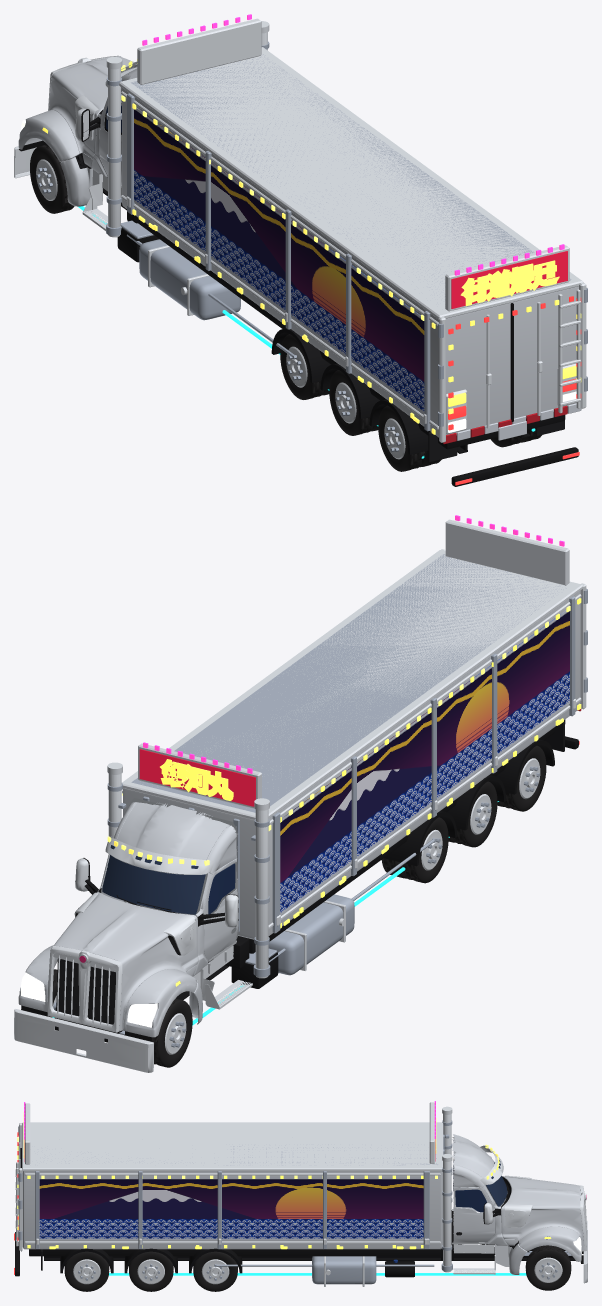
The model's file is dekotora_truck_longo_americana.glb.
3 renders of one model, top to bottom at view 1: azimuth 30°, elevation 25°; view 2: azimuth 150°, elevation 25°; view 3: azimuth 270°, elevation 25°, orthographic. The views are drawn at different scales.
Parts seen in each view (by area): view 1: truck_chrome, truck_mural, truck_paint_white_panel, truck_steel, truck_plastic_black, truck_lamp_amber, wheel_f_L, wheel_r_L_1.5_1.06, wheel_r_L_3.0_1.06, wheel_r_L_4.5_1.06, truck_andon_panel, truck_paint_white (+3 smaller); view 2: truck_chrome, truck_steel, truck_paint_white_panel, truck_mural, truck_plastic_black, truck_glass_wind, truck_lamp_amber, truck_andon_panel, wheel_f_L, wheel_r_L_3.0_1.06, wheel_r_L_1.5_1.06, wheel_r_L_4.5_1.06 (+2 smaller); view 3: truck_chrome, truck_mural, truck_paint_white_panel, truck_plastic_black, truck_steel, wheel_f_R, wheel_r_R_1.5_1.06, wheel_r_R_3.0_1.06, wheel_r_R_4.5_1.06, truck_lamp_amber, truck_lamp_cyan, truck_glass (+2 smaller).
Boxes of the visible parts, box(x1,y1,x2,y2) form: truck_chrome: box(14, 18, 586, 442); truck_mural: box(134, 107, 424, 413); truck_paint_white_panel: box(18, 56, 578, 437); truck_steel: box(73, 41, 587, 431); truck_plastic_black: box(19, 109, 578, 486); truck_lamp_amber: box(42, 61, 581, 434); wheel_f_L: box(30, 144, 74, 213); wheel_r_L_1.5_1.06: box(378, 405, 426, 471); wheel_r_L_3.0_1.06: box(329, 370, 374, 435); wheel_r_L_4.5_1.06: box(280, 334, 325, 399); truck_andon_panel: box(451, 251, 567, 308); truck_paint_white: box(457, 403, 581, 440); truck_chrome: box(14, 519, 586, 1072); truck_steel: box(53, 554, 587, 1034); truck_paint_white_panel: box(18, 591, 580, 1037); truck_mural: box(280, 610, 569, 914); truck_plastic_black: box(21, 719, 578, 1042); truck_glass_wind: box(102, 845, 205, 914); truck_lamp_amber: box(114, 598, 581, 986); truck_andon_panel: box(139, 749, 255, 806); wheel_f_L: box(151, 998, 192, 1067); wheel_r_L_3.0_1.06: box(452, 781, 497, 847); wheel_r_L_1.5_1.06: box(501, 745, 546, 811); wheel_r_L_4.5_1.06: box(401, 817, 448, 883); truck_chrome: box(15, 1102, 587, 1286); truck_mural: box(39, 1177, 423, 1240); truck_paint_white_panel: box(22, 1134, 584, 1274); truck_plastic_black: box(15, 1148, 583, 1277); truck_steel: box(18, 1120, 571, 1284); wheel_f_R: box(525, 1245, 571, 1290); wheel_r_R_1.5_1.06: box(64, 1251, 109, 1291); wheel_r_R_3.0_1.06: box(129, 1251, 173, 1291); wheel_r_R_4.5_1.06: box(193, 1251, 237, 1291); truck_lamp_amber: box(17, 1112, 551, 1249); truck_lamp_cyan: box(109, 1273, 526, 1275); truck_glass: box(453, 1162, 486, 1212).
Size of the model in its own units: 2.85 by 3.91 by 13.38.
Materials: 20 (4 with a texture image).
